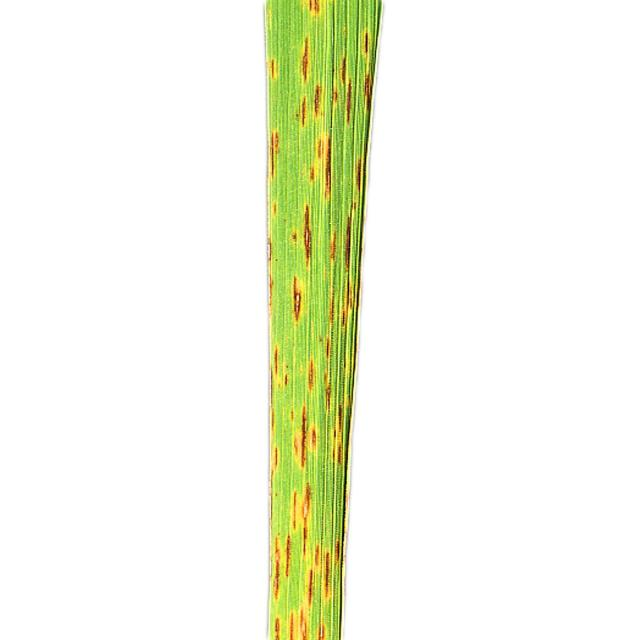Narrow brown: (237, 0, 400, 640)
